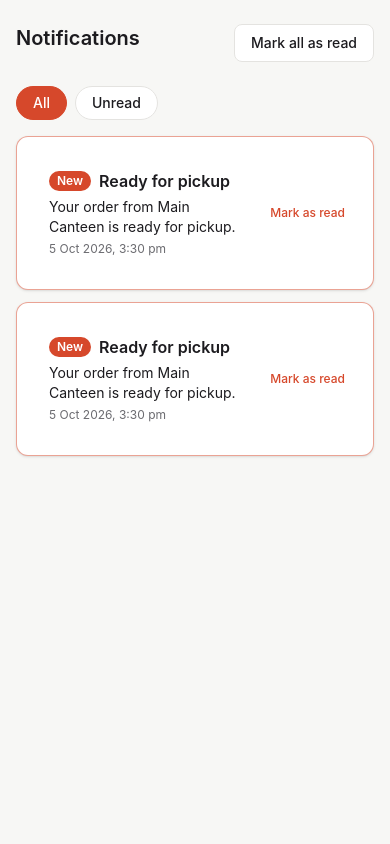
Test: NotificationsView — mark all read › marks everything read by the backend's answer, re-reads the list, and asks for the server's count
Click the button "Mark all as read": (304, 43) [234, 24, 374, 62]
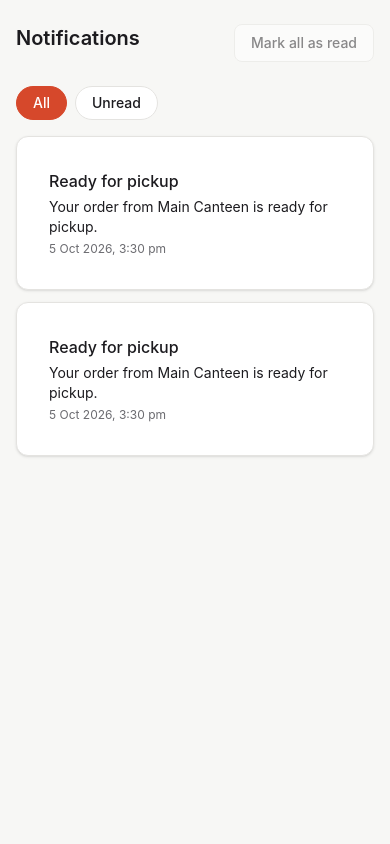
Now the text "New" is not shown
Now the button "Mark all as read" is disabled, box [234, 24, 374, 62]
